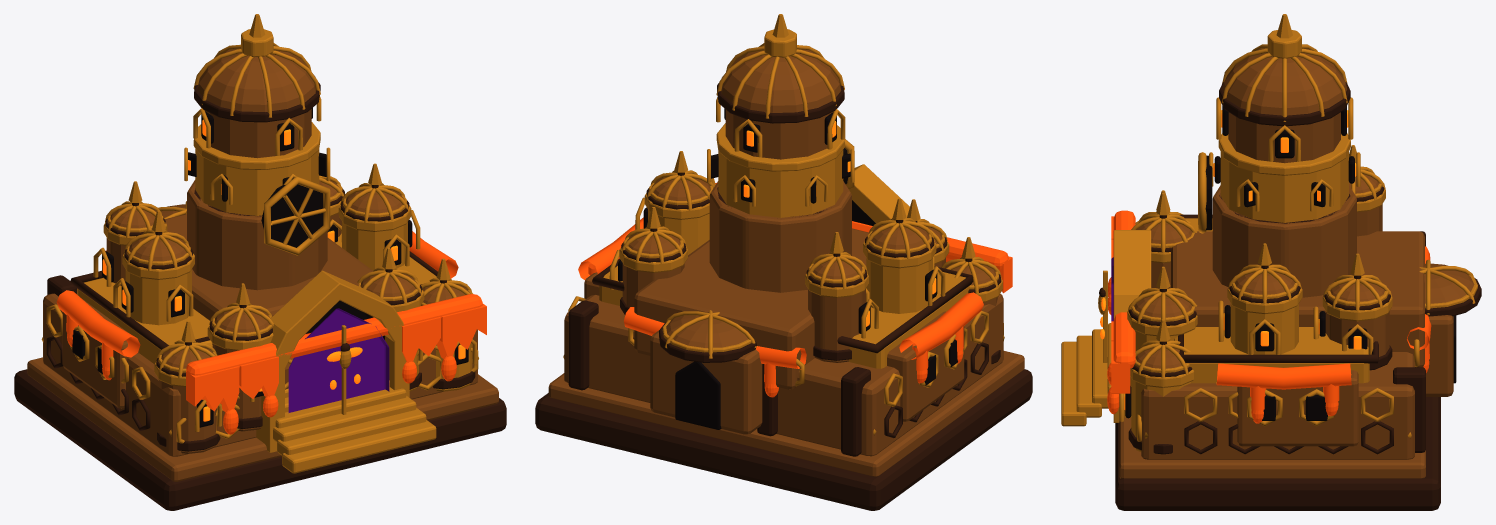
The model's file is honeycomb-royal-palace-v001.glb.
3 views of the same model, side by side, from view 1: azimuth 30°, elevation 25°; view 2: azimuth 150°, elevation 25°; view 3: azimuth 270°, elevation 25° (orthographic). The views are drawn at different scales.
Parts seen in each view (by area): view 1: S5_G_BATCH_I14_VISCOUS_HONEY, S1_A_BATCH_I14_DARK_BRONZE, S3_D_BATCH_I14_ROYAL_GOLD, S3_C_BATCH_I14_WAX_STONE, S2_E_BATCH_I14_WAX_STONE, S3_C_BATCH_I14_ROYAL_GOLD, S1_A_BATCH_I14_ROYAL_GOLD, S1_A_BATCH_I14_WAX_STONE, S2_A_BATCH_I14_ROYAL_GOLD, S2_B_BATCH_I14_ROYAL_GOLD, S2_A_BATCH_I14_PURPLE_ENAMEL, S4_C_BATCH_I14_WAX_STONE (+13 smaller); view 2: S2_E_BATCH_I14_WAX_STONE, S1_A_BATCH_I14_DARK_BRONZE, S3_D_BATCH_I14_ROYAL_GOLD, S3_C_BATCH_I14_WAX_STONE, S3_H_BATCH_I14_WAX_STONE, S1_A_BATCH_I14_WAX_STONE, S3_C_BATCH_I14_ROYAL_GOLD, S5_G_BATCH_I14_VISCOUS_HONEY, S3_D_BATCH_I14_WAX_STONE, S3_E_BATCH_I14_DARK_BRONZE, S4_C_BATCH_I14_WAX_STONE, S4_C_BATCH_I14_ROYAL_GOLD (+13 smaller); view 3: S2_E_BATCH_I14_WAX_STONE, S3_C_BATCH_I14_WAX_STONE, S1_A_BATCH_I14_DARK_BRONZE, S3_C_BATCH_I14_ROYAL_GOLD, S3_D_BATCH_I14_ROYAL_GOLD, S3_H_BATCH_I14_WAX_STONE, S5_G_BATCH_I14_VISCOUS_HONEY, S1_A_BATCH_I14_WAX_STONE, S2_B_BATCH_I14_ROYAL_GOLD, S4_C_BATCH_I14_WAX_STONE, S1_A_BATCH_I14_ROYAL_GOLD, S2_E_BATCH_I14_ROYAL_GOLD (+15 smaller).
Boxes of the visible parts, bbox=[...] form: S5_G_BATCH_I14_VISCOUS_HONEY: bbox=[56, 231, 486, 434]; S1_A_BATCH_I14_DARK_BRONZE: bbox=[14, 369, 506, 510]; S3_D_BATCH_I14_ROYAL_GOLD: bbox=[93, 163, 420, 325]; S3_C_BATCH_I14_WAX_STONE: bbox=[187, 109, 327, 290]; S2_E_BATCH_I14_WAX_STONE: bbox=[43, 214, 477, 456]; S3_C_BATCH_I14_ROYAL_GOLD: bbox=[184, 96, 330, 255]; S1_A_BATCH_I14_ROYAL_GOLD: bbox=[273, 380, 436, 473]; S1_A_BATCH_I14_WAX_STONE: bbox=[27, 357, 498, 481]; S2_A_BATCH_I14_ROYAL_GOLD: bbox=[256, 270, 409, 452]; S2_B_BATCH_I14_ROYAL_GOLD: bbox=[154, 247, 476, 431]; S2_A_BATCH_I14_PURPLE_ENAMEL: bbox=[288, 308, 389, 412]; S4_C_BATCH_I14_WAX_STONE: bbox=[197, 48, 315, 111]; S2_E_BATCH_I14_WAX_STONE: bbox=[564, 228, 1003, 456]; S1_A_BATCH_I14_DARK_BRONZE: bbox=[535, 369, 1032, 510]; S3_D_BATCH_I14_ROYAL_GOLD: bbox=[609, 151, 945, 338]; S3_C_BATCH_I14_WAX_STONE: bbox=[709, 109, 851, 292]; S3_H_BATCH_I14_WAX_STONE: bbox=[584, 272, 964, 434]; S1_A_BATCH_I14_WAX_STONE: bbox=[548, 351, 1024, 476]; S3_C_BATCH_I14_ROYAL_GOLD: bbox=[707, 97, 854, 217]; S5_G_BATCH_I14_VISCOUS_HONEY: bbox=[578, 183, 1012, 397]; S3_D_BATCH_I14_WAX_STONE: bbox=[622, 177, 929, 362]; S3_E_BATCH_I14_DARK_BRONZE: bbox=[568, 300, 988, 456]; S4_C_BATCH_I14_WAX_STONE: bbox=[721, 49, 841, 112]; S4_C_BATCH_I14_ROYAL_GOLD: bbox=[716, 14, 844, 118]; S2_E_BATCH_I14_WAX_STONE: bbox=[1141, 231, 1424, 459]; S3_C_BATCH_I14_WAX_STONE: bbox=[1212, 112, 1356, 297]; S1_A_BATCH_I14_DARK_BRONZE: bbox=[1115, 397, 1440, 510]; S3_C_BATCH_I14_ROYAL_GOLD: bbox=[1198, 97, 1360, 233]; S3_D_BATCH_I14_ROYAL_GOLD: bbox=[1218, 145, 1392, 354]; S3_H_BATCH_I14_WAX_STONE: bbox=[1237, 263, 1474, 446]; S5_G_BATCH_I14_VISCOUS_HONEY: bbox=[1107, 210, 1431, 423]; S1_A_BATCH_I14_WAX_STONE: bbox=[1119, 417, 1425, 478]; S2_B_BATCH_I14_ROYAL_GOLD: bbox=[1119, 190, 1197, 451]; S4_C_BATCH_I14_WAX_STONE: bbox=[1222, 48, 1347, 115]; S1_A_BATCH_I14_ROYAL_GOLD: bbox=[1061, 323, 1111, 426]; S2_E_BATCH_I14_ROYAL_GOLD: bbox=[1144, 218, 1411, 438].
Size of the model in its own units: 3.7 by 4.13 by 3.81.
